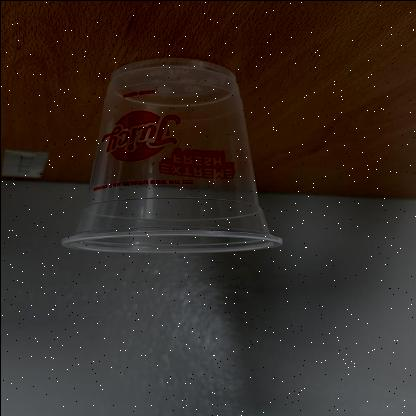Others: (62, 58, 284, 254)
